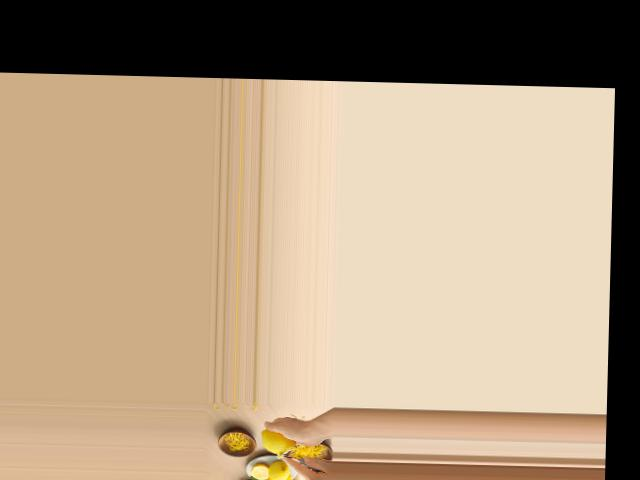lemon: (261, 424, 297, 456)
